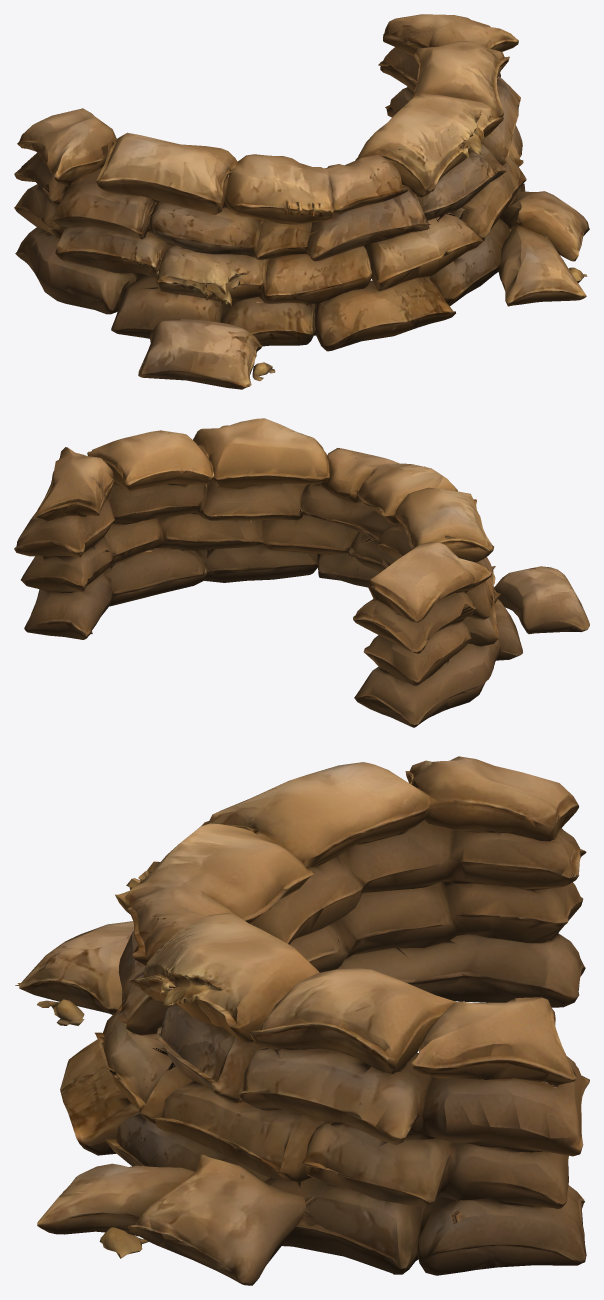
Rendered from sandbag-wall.glb.
The picture shows the model from 3 angles, top to bottom: view 1: azimuth 30°, elevation 25°; view 2: azimuth 150°, elevation 25°; view 3: azimuth 270°, elevation 25°; orthographic projection. The views are drawn at different scales.
Visible parts, largest first — view 1: SM_SandbagWall; view 2: SM_SandbagWall; view 3: SM_SandbagWall.
Part boxes in pixels (x1,y1,x2,y2): SM_SandbagWall: [14, 14, 589, 389]; SM_SandbagWall: [14, 418, 589, 727]; SM_SandbagWall: [15, 756, 589, 1285].
Size of the model in its own units: 3.52 by 1.2 by 2.52.
Materials: 1 (1 with a texture image).
